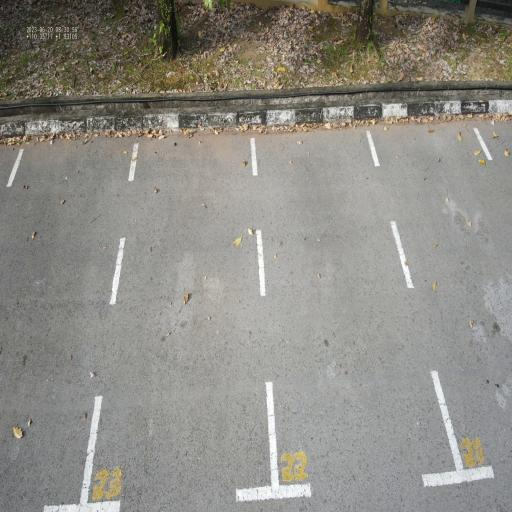Empty: (247, 120, 469, 499), (72, 123, 285, 512)
